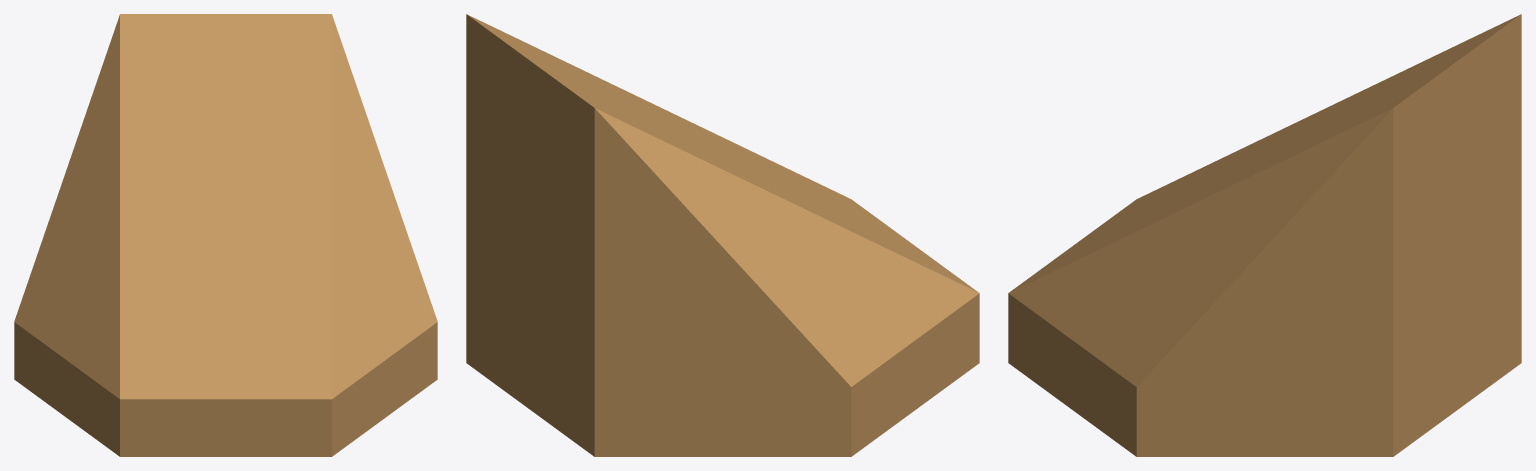
The model's file is sand_road_tile2.glb.
3 renders of one model, left to right at view 1: azimuth 30°, elevation 25°; view 2: azimuth 150°, elevation 25°; view 3: azimuth 270°, elevation 25°, orthographic. The views are drawn at different scales.
Parts seen in each view (by area): view 1: SandRoadStairTile; view 2: SandRoadStairTile; view 3: SandRoadStairTile.
Boxes of the visible parts, x1,y1,x2,y2 form: SandRoadStairTile: [14, 14, 437, 456]; SandRoadStairTile: [466, 14, 979, 456]; SandRoadStairTile: [1008, 14, 1521, 456].
Size of the model in its own units: 1.73 by 1.5 by 2.
Materials: 2 (2 with a texture image).
